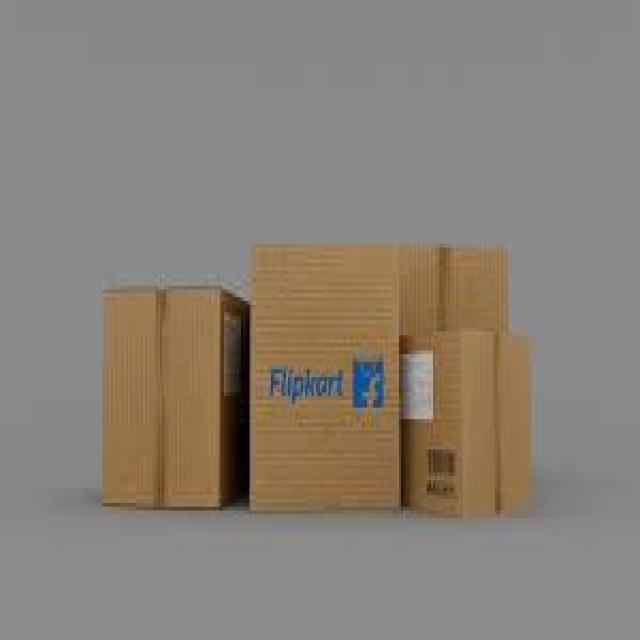box: (250, 248, 403, 510), (410, 248, 538, 518), (96, 286, 239, 510)
